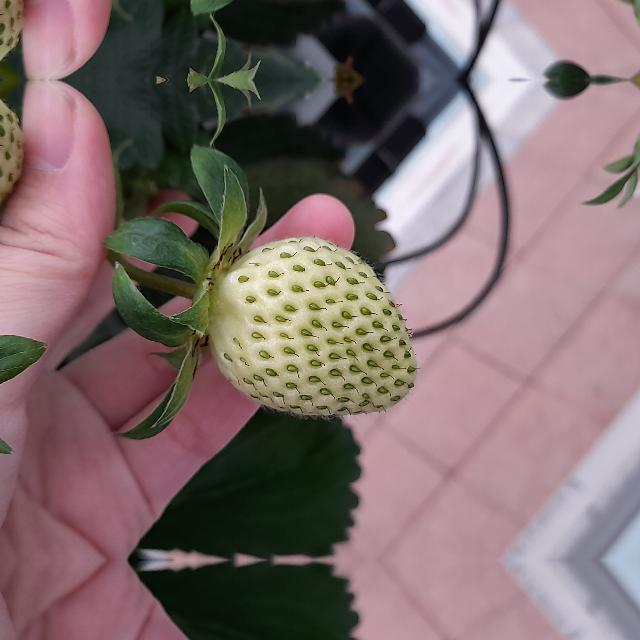Health_25: (208, 236, 416, 414)
